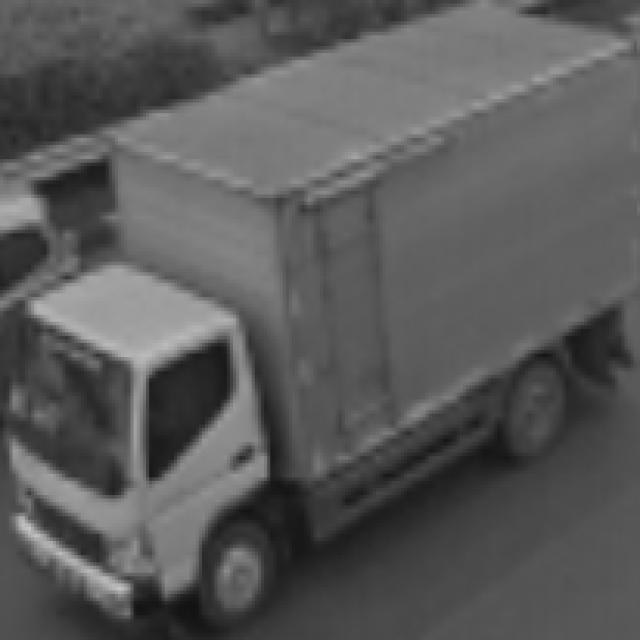truck: (1, 249, 301, 629)
